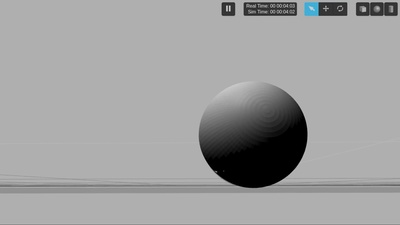mira_robot: (200, 82, 309, 189)
